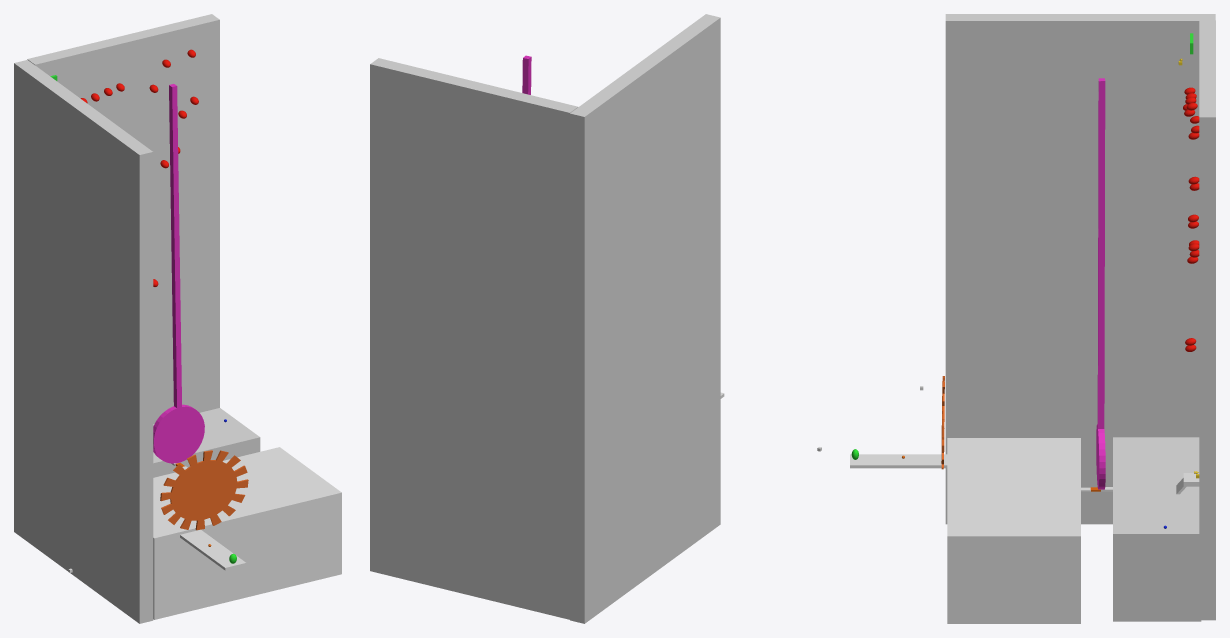
Rendered from pendulum Level blocking .fbx.
The picture shows the model from 3 angles, left to right: view 1: azimuth 30°, elevation 25°; view 2: azimuth 150°, elevation 25°; view 3: azimuth 270°, elevation 25°; orthographic projection. The views are drawn at different scales.
Visible parts, largest first — view 1: Cube.007, Cube.003, Cube, Swinging Pendulum, Fast moving geer, needs to be hit by a time grenade, Cube.001, Cube.006; view 2: Cube.003, Cube.007; view 3: Cube.007, Cube, Cube.001, Cube.003, Swinging Pendulum, Cube.006.
Boxes of the visible parts, box(x1,y1,x2,y2) form: Cube.007: box(14, 60, 153, 623); Cube.003: box(27, 14, 219, 423); Cube: box(153, 447, 341, 619); Swinging Pendulum: box(153, 84, 204, 463); Fast moving geer, needs to be hit by a time grenade: box(160, 450, 248, 530); Cube.001: box(153, 408, 260, 477); Cube.006: box(180, 529, 246, 570); Cube.003: box(370, 58, 578, 619); Cube.007: box(570, 14, 720, 623); Cube.007: box(945, 14, 1215, 524); Cube: box(947, 438, 1080, 623); Cube.001: box(1113, 437, 1201, 621); Cube.003: box(1199, 20, 1215, 620); Swinging Pendulum: box(1096, 78, 1105, 489); Cube.006: box(850, 454, 947, 468).
Size of the model in its own units: 21605 by 34069 by 22409.
